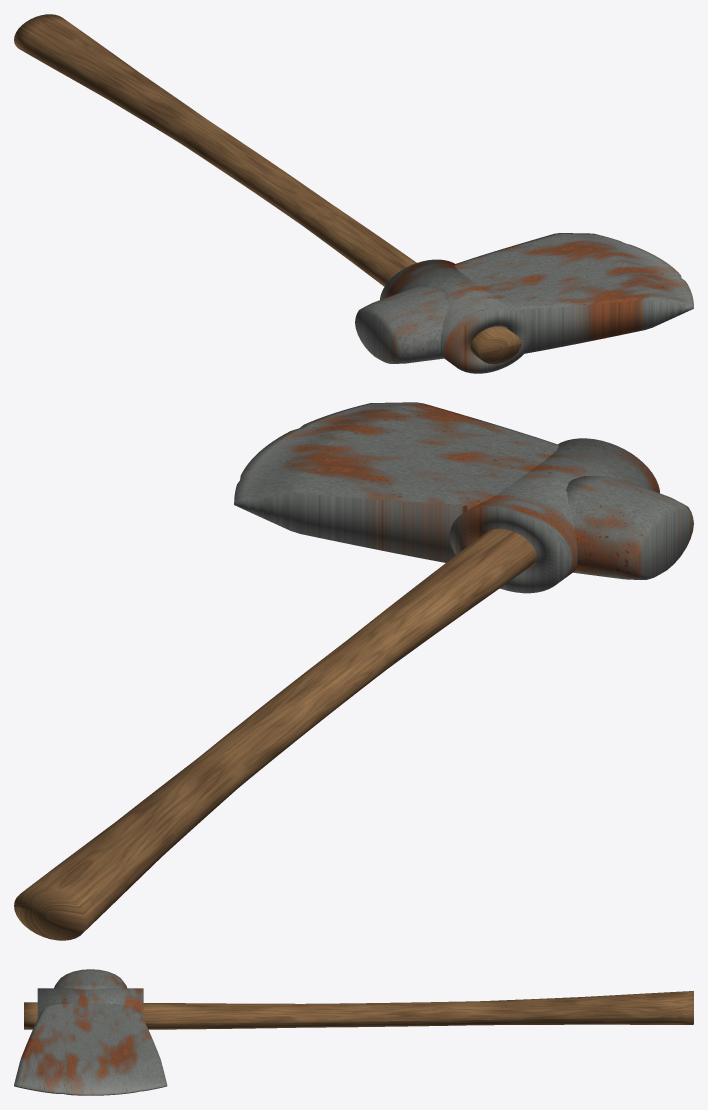
File: rusty_survival_axe.glb
3 views of the same model, one above another, from view 1: azimuth 30°, elevation 25°; view 2: azimuth 150°, elevation 25°; view 3: azimuth 270°, elevation 25° (orthographic). The views are drawn at different scales.
Visible parts, largest first — view 1: Survival_Axe; view 2: Survival_Axe; view 3: Survival_Axe.
Boxes of the visible parts, bbox=[...] form: Survival_Axe: bbox=[14, 14, 693, 373]; Survival_Axe: bbox=[14, 402, 693, 940]; Survival_Axe: bbox=[14, 969, 693, 1095].
Bounding box in the file's own units: 0.308 × 0.06 × 0.807.
1 material, 1 textured.
